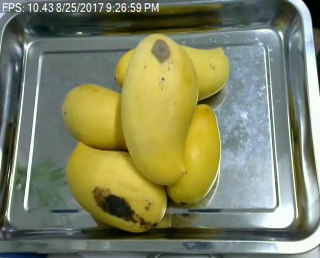Mango: (122, 30, 200, 187), (64, 142, 167, 231), (62, 83, 156, 152), (115, 43, 229, 98), (164, 102, 221, 201)
